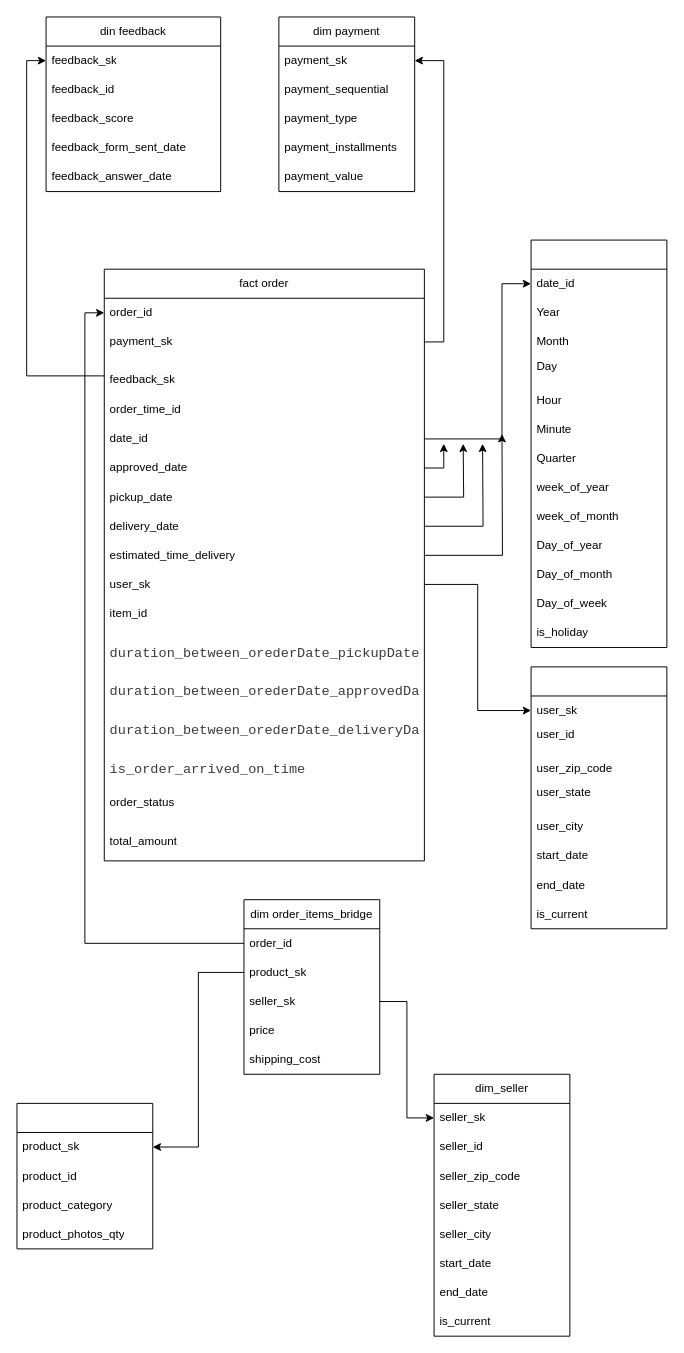
The diagram is 684 pixels wide and 1353 high, and some of its shapes have lost their labels. Each missing label, with the box of its shape:
dim date_time: (530, 239, 667, 647)
dim product: (16, 1102, 153, 1249)
dim user: (530, 666, 667, 929)
